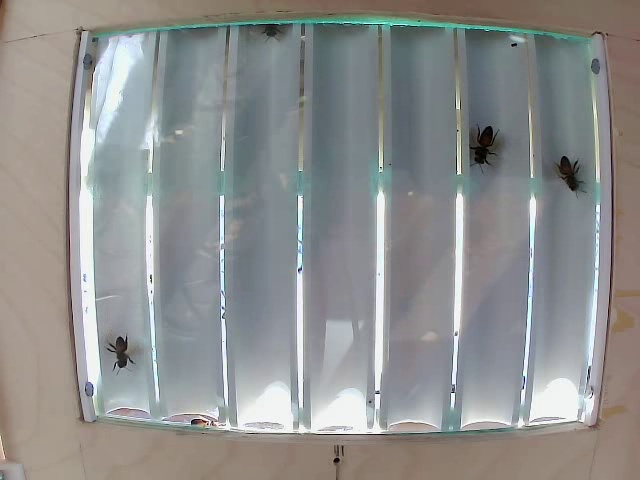bee: (457, 116, 492, 161), (547, 147, 580, 192), (100, 332, 135, 368)
